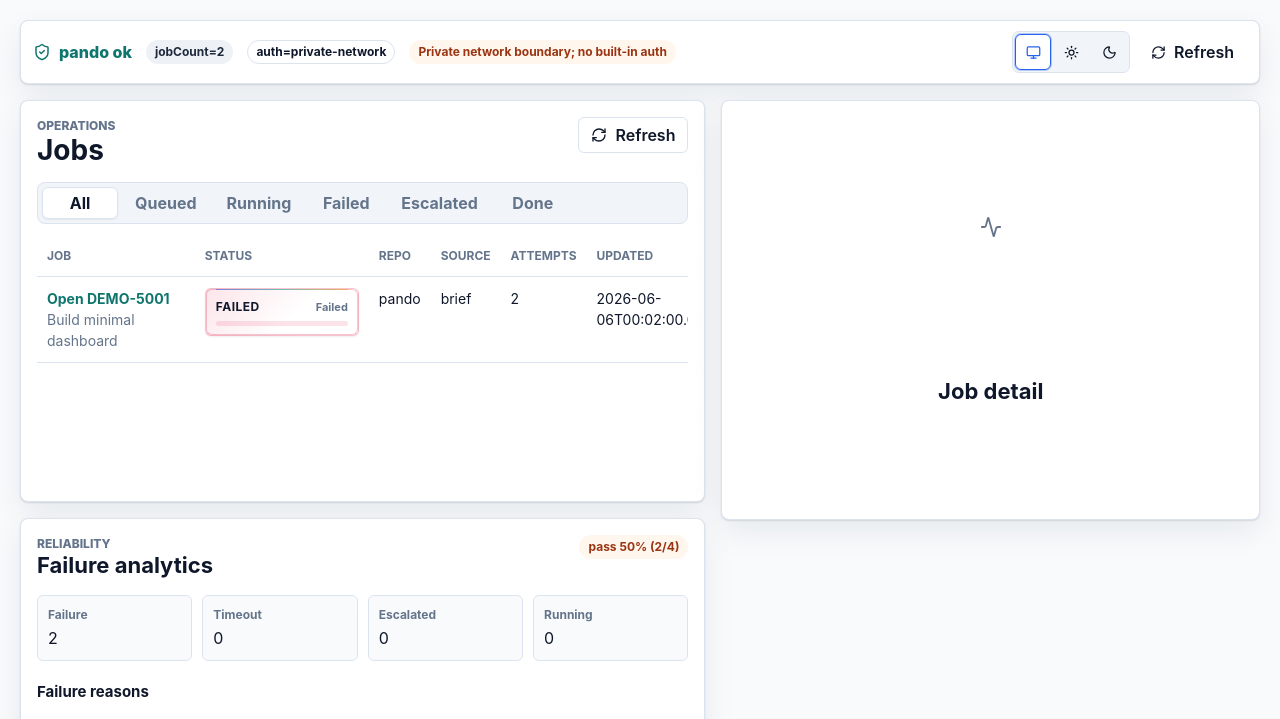
Test: DashboardApp › shows a canceling state and disables the cancel button when a cancel is pending
This screenshot has width=1280, height=719.
Click the button "Open DEMO-5001" at (108, 299), box left=47, top=292, right=170, bottom=306
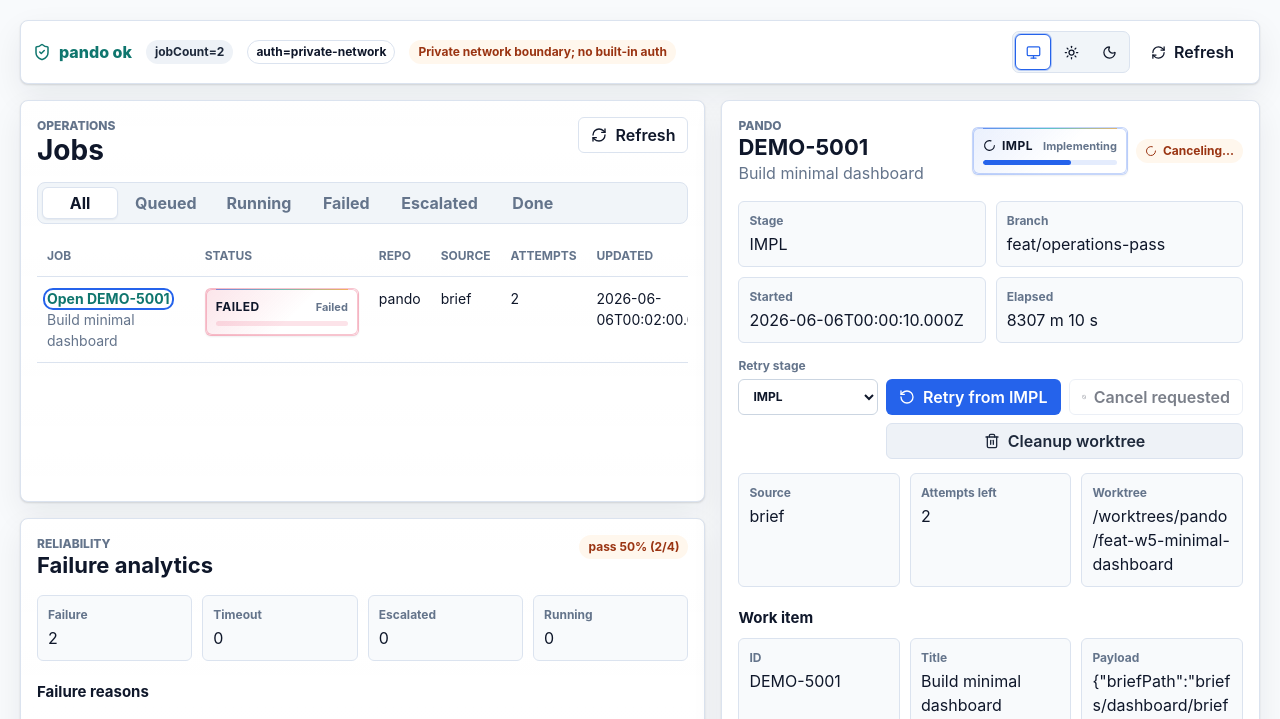
Expected: the text "Canceling…" is shown, left=1136, top=139, right=1243, bottom=163
Expected: the button "Cancel requested" is disabled, left=1068, top=379, right=1243, bottom=415
